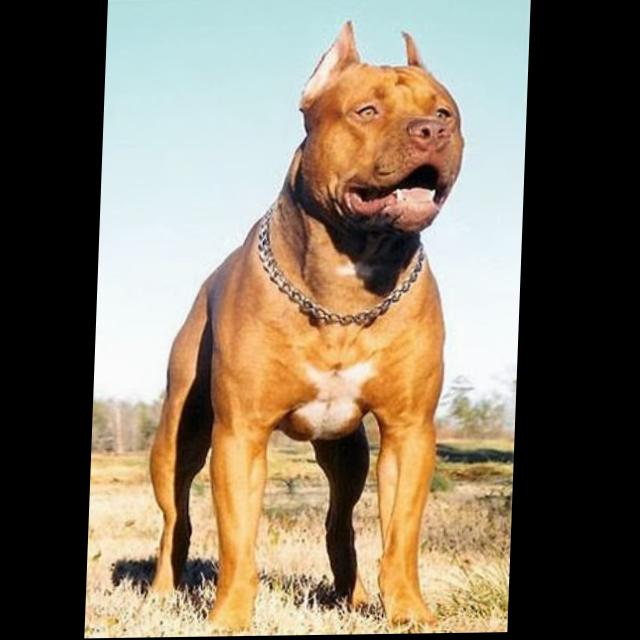am_pit_bull_terrier: (148, 20, 473, 637)
